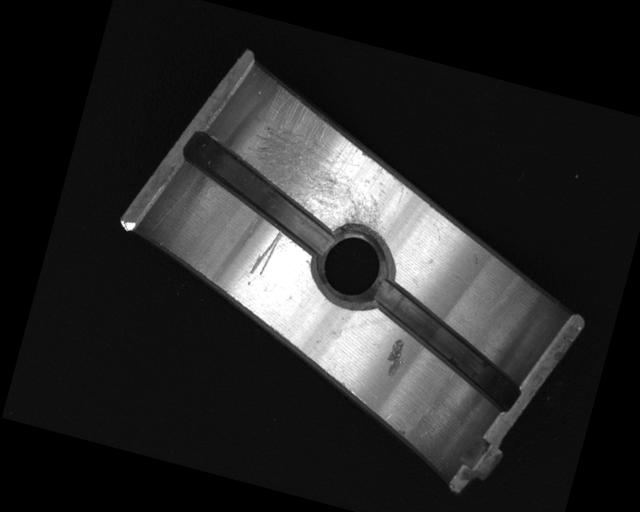bruise: (381, 335, 411, 380)
gap: (350, 276, 539, 413), (167, 129, 347, 255)
hole: (307, 220, 400, 312)
nick: (248, 224, 283, 280)
scratch: (236, 78, 419, 241)
